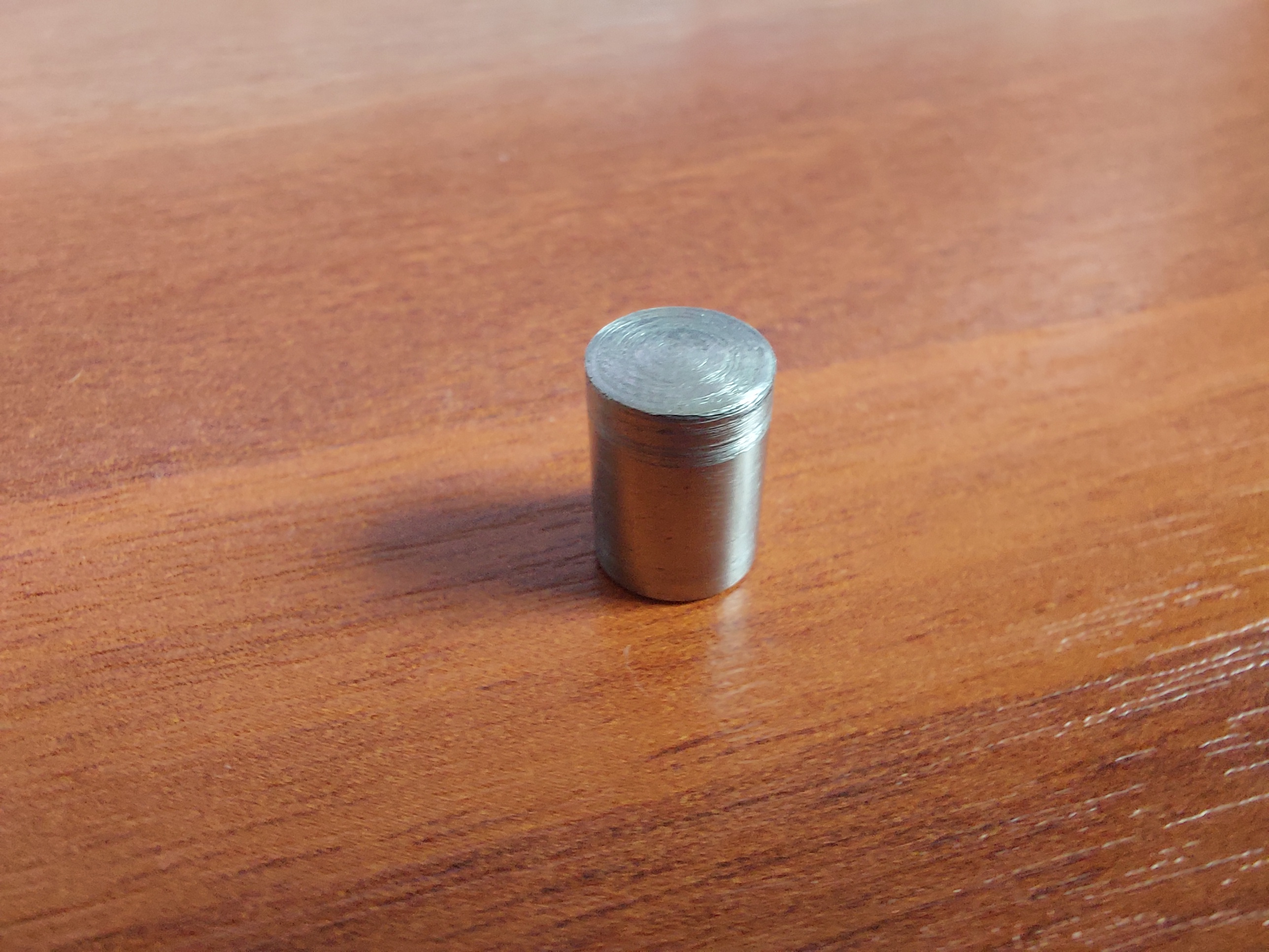tablet: (582, 302, 785, 607)
